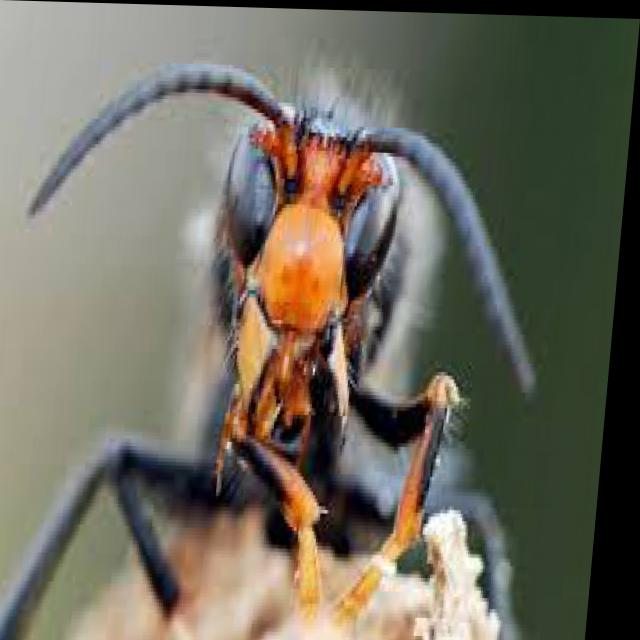Vespa Velutina: (0, 37, 593, 639)
